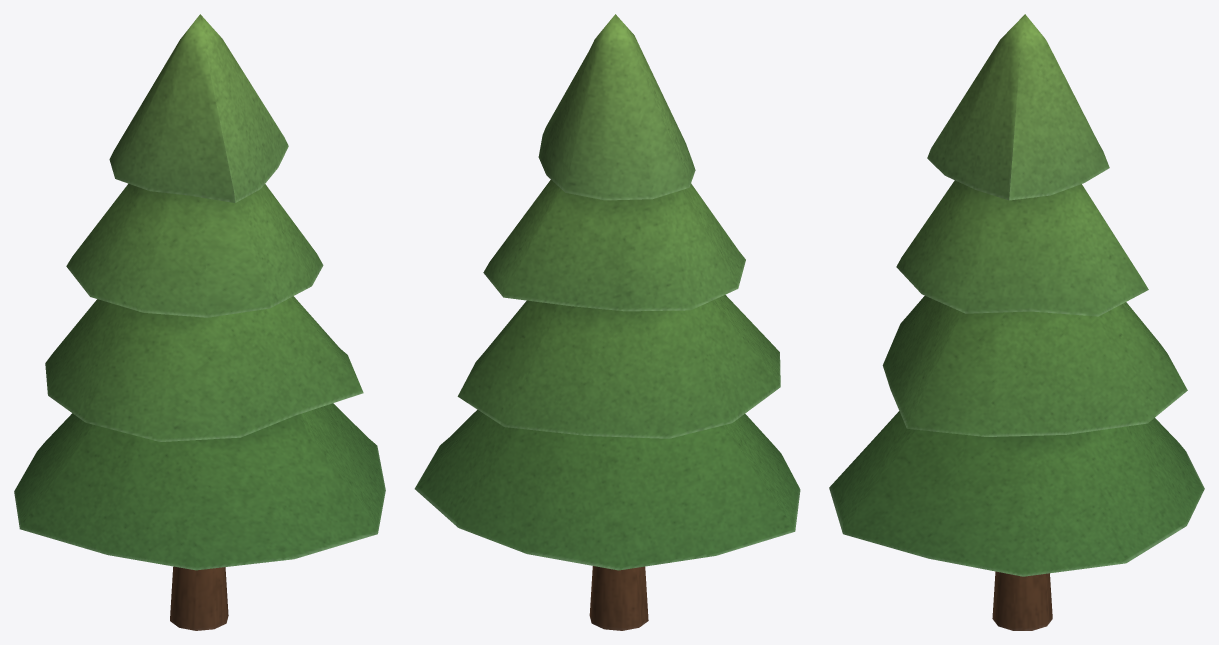
The model's file is Stage_Lake_Pine.glb.
3 renders of one model, left to right at view 1: azimuth 30°, elevation 25°; view 2: azimuth 150°, elevation 25°; view 3: azimuth 270°, elevation 25°, orthographic.
Parts seen in each view (by area): view 1: Stage_Lake_Pine; view 2: Stage_Lake_Pine; view 3: Stage_Lake_Pine.
Part boxes in pixels (box(x1,y1,x2,y2)): Stage_Lake_Pine: box(14, 14, 385, 630); Stage_Lake_Pine: box(414, 14, 800, 630); Stage_Lake_Pine: box(829, 14, 1204, 630).
Size of the model in its own units: 13.01 by 21.06 by 11.84.
1 material, 1 textured.
